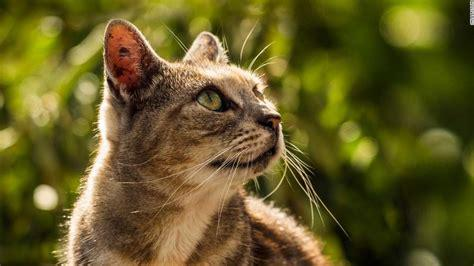cat: (65, 19, 331, 266)
